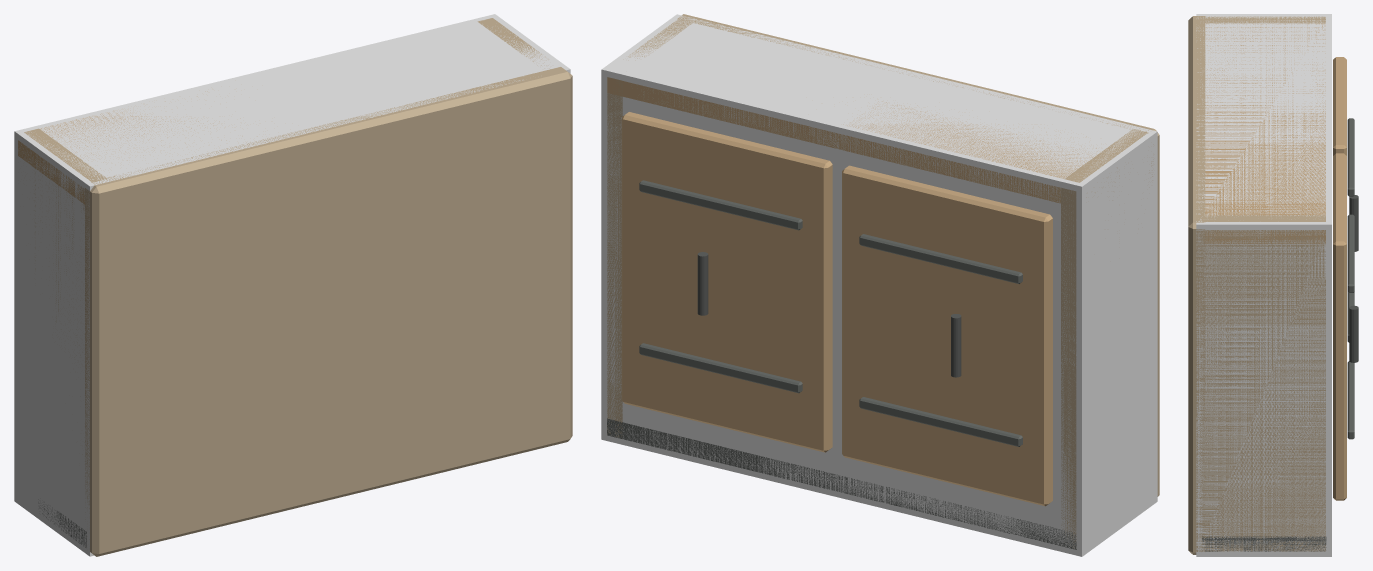
Rendered from standard.glb.
3 renders of one model, left to right at view 1: azimuth 30°, elevation 25°; view 2: azimuth 150°, elevation 25°; view 3: azimuth 270°, elevation 25°, orthographic. The views are drawn at different scales.
Visible parts, largest first — view 1: Cabinet_Back.001, COL_WALL_CABINETS_STANDARD, Cabinet_Top.001, Cabinet_Side.002, Cabinet_Side.003; view 2: COL_WALL_CABINETS_STANDARD, Cabinet_Door_1.001, Cabinet_Door_-1.001, Cabinet_Top.001, Cabinet_Bottom.001, Cabinet_Side.002, Cabinet_Side.003, Cabinet_Back.001, Cabinet_DoorRail_-1, Cabinet_DoorRail_1, Cabinet_DoorRail_1.001, Cabinet_DoorRail_-1.001 (+2 smaller); view 3: COL_WALL_CABINETS_STANDARD, Cabinet_Side.003, Cabinet_Top.001, Cabinet_Back.001, Cabinet_Door_1.001, Cabinet_Bottom.001, Cabinet_Door_-1.001, Cabinet_Side.002, Cabinet_DoorRail_-1.001, Cabinet_DoorRail_1.001, Cabinet_DoorRail_1, Cabinet_Handle_1.001 (+1 smaller).
Boxes of the visible parts, x1,y1,x2,y2 form: Cabinet_Back.001: [85, 67, 572, 556]; COL_WALL_CABINETS_STANDARD: [14, 14, 570, 556]; Cabinet_Top.001: [18, 91, 257, 204]; Cabinet_Side.002: [24, 128, 107, 454]; Cabinet_Side.003: [477, 18, 549, 68]; COL_WALL_CABINETS_STANDARD: [601, 14, 1157, 556]; Cabinet_Door_1.001: [621, 112, 832, 452]; Cabinet_Door_-1.001: [842, 165, 1052, 506]; Cabinet_Top.001: [607, 77, 1097, 203]; Cabinet_Bottom.001: [607, 418, 1076, 549]; Cabinet_Side.002: [1061, 129, 1153, 548]; Cabinet_Side.003: [607, 18, 692, 437]; Cabinet_Back.001: [677, 14, 1159, 496]; Cabinet_DoorRail_-1: [859, 397, 1022, 446]; Cabinet_DoorRail_1: [639, 343, 802, 393]; Cabinet_DoorRail_1.001: [639, 180, 802, 230]; Cabinet_DoorRail_-1.001: [859, 234, 1022, 283]; COL_WALL_CABINETS_STANDARD: [1196, 14, 1331, 556]; Cabinet_Side.003: [1202, 215, 1325, 551]; Cabinet_Top.001: [1202, 17, 1325, 244]; Cabinet_Back.001: [1188, 16, 1205, 554]; Cabinet_Door_1.001: [1333, 153, 1346, 500]; Cabinet_Bottom.001: [1202, 536, 1326, 551]; Cabinet_Door_-1.001: [1333, 57, 1346, 155]; Cabinet_Side.002: [1205, 16, 1325, 23]; Cabinet_DoorRail_-1.001: [1347, 118, 1354, 196]; Cabinet_DoorRail_1.001: [1347, 214, 1354, 292]; Cabinet_DoorRail_1: [1347, 361, 1354, 439]; Cabinet_Handle_1.001: [1349, 305, 1358, 362].
Bounding box in the file's own units: 1.25 × 0.92 × 0.4277.
